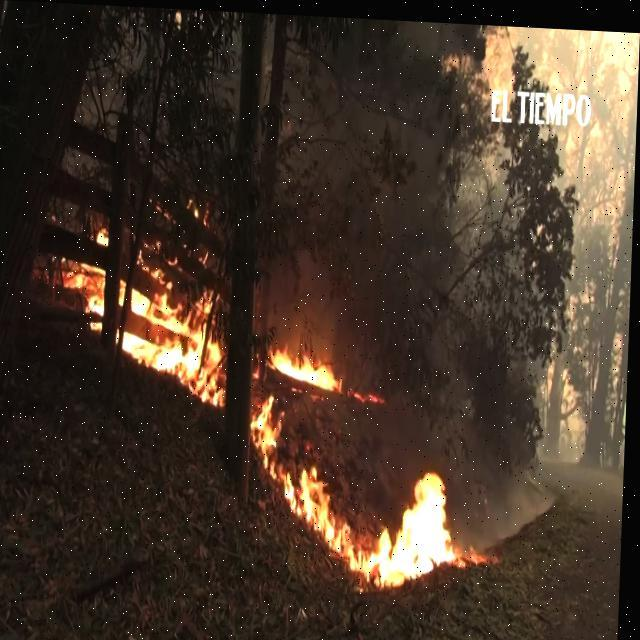Fire: (292, 458, 460, 588), (120, 254, 234, 400), (274, 336, 346, 389), (62, 262, 108, 333), (253, 390, 290, 477), (354, 381, 390, 401), (98, 228, 110, 244)
